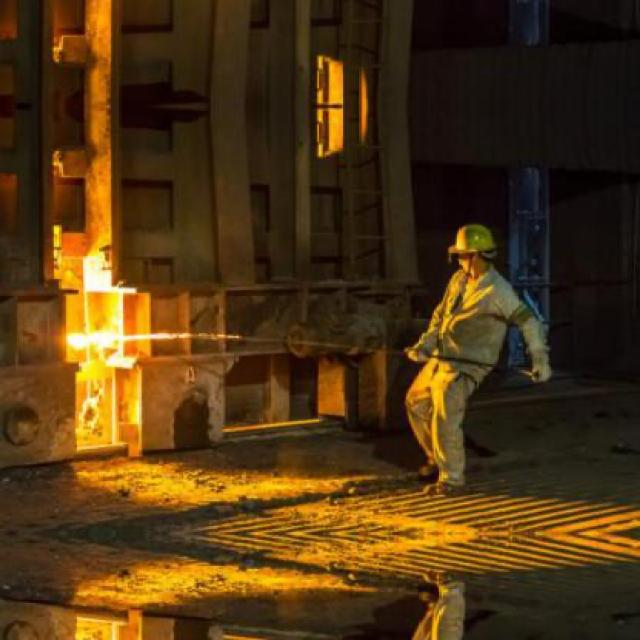con casco: (410, 197, 522, 305)
